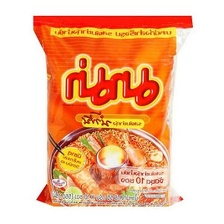snack: (26, 4, 200, 211)
